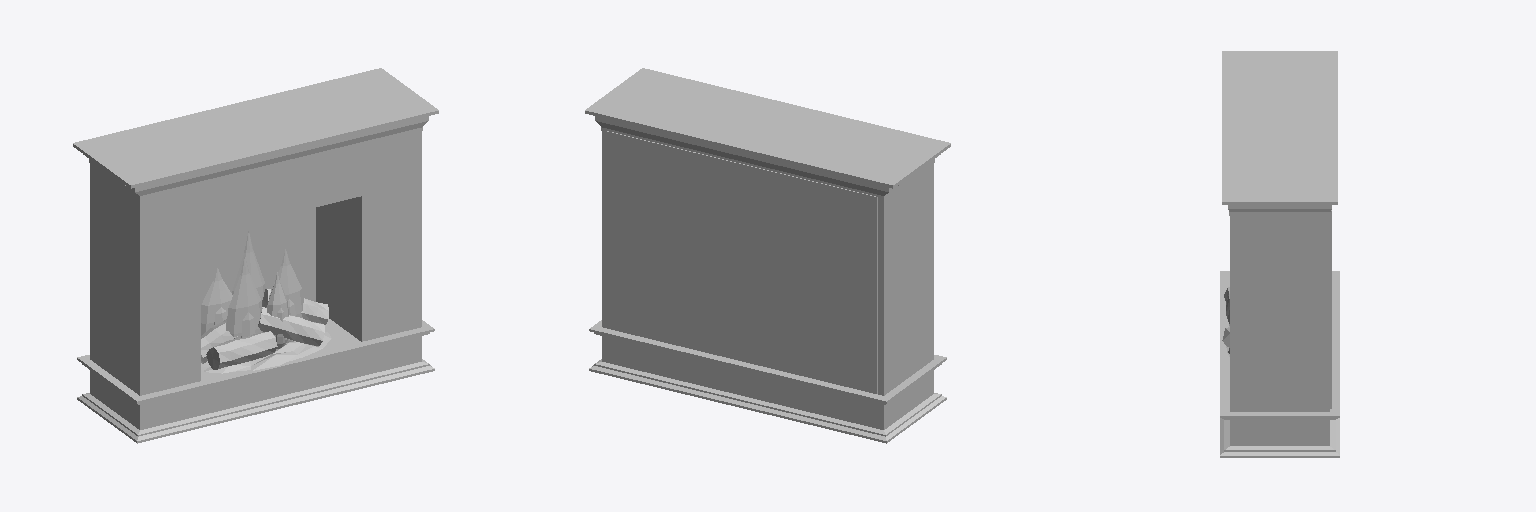
File: fireplace.obj
3 renders of one model, left to right at view 1: azimuth 30°, elevation 25°; view 2: azimuth 150°, elevation 25°; view 3: azimuth 270°, elevation 25°, orthographic.
Bounding box in the file's own units: 7.91 × 6.33 × 2.67.